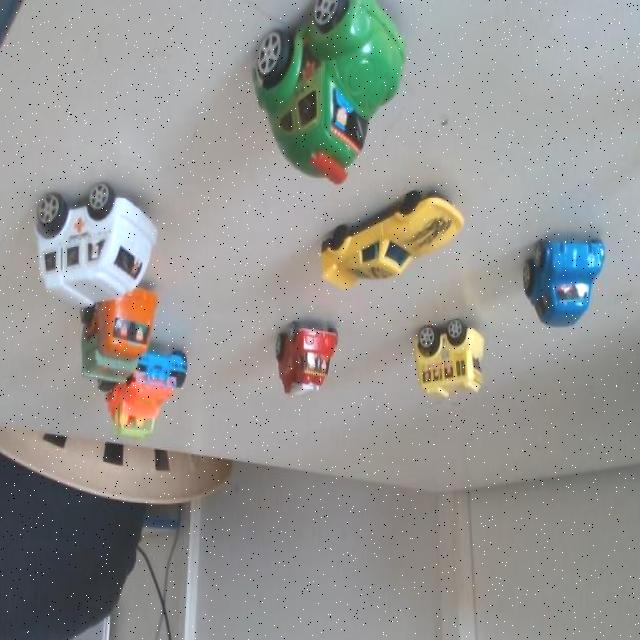car: (258, 1, 413, 176), (37, 162, 172, 327), (329, 183, 456, 300), (406, 305, 491, 403), (116, 345, 195, 446), (532, 230, 608, 330), (266, 304, 339, 408), (88, 281, 152, 392)
